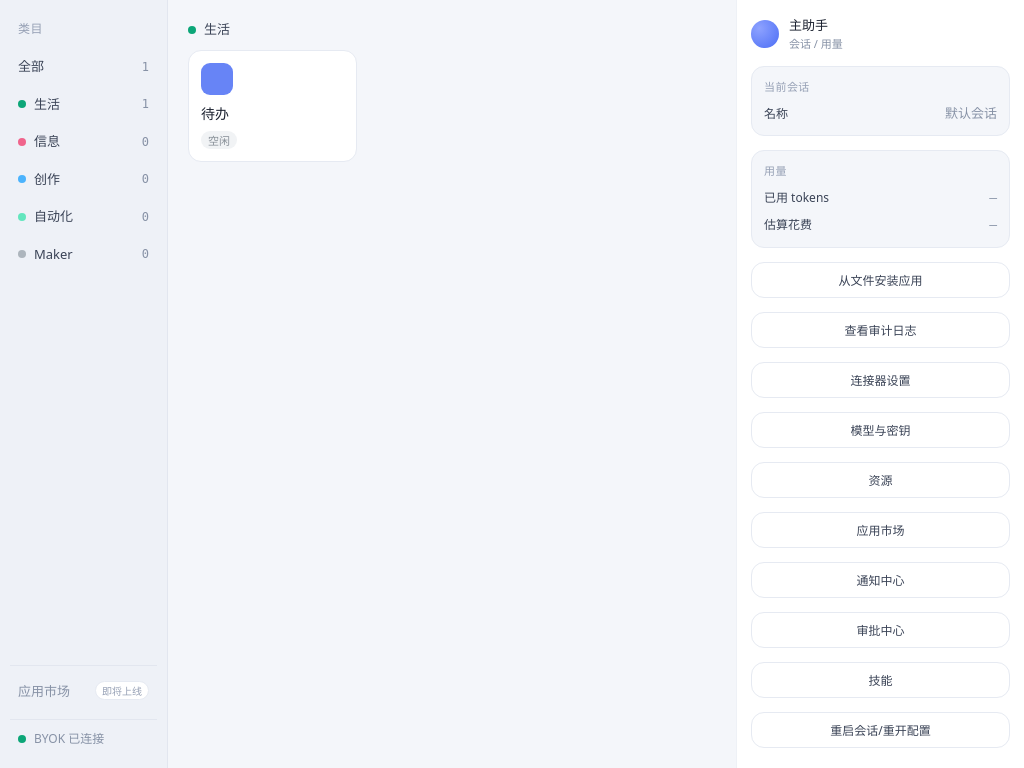
it: 点击「技能」入口切到 SkillsView
Expected: the text "待办" is shown, [201,102,229,122]
Click the button "技能" at (880, 680), box [751,662,1010,698]
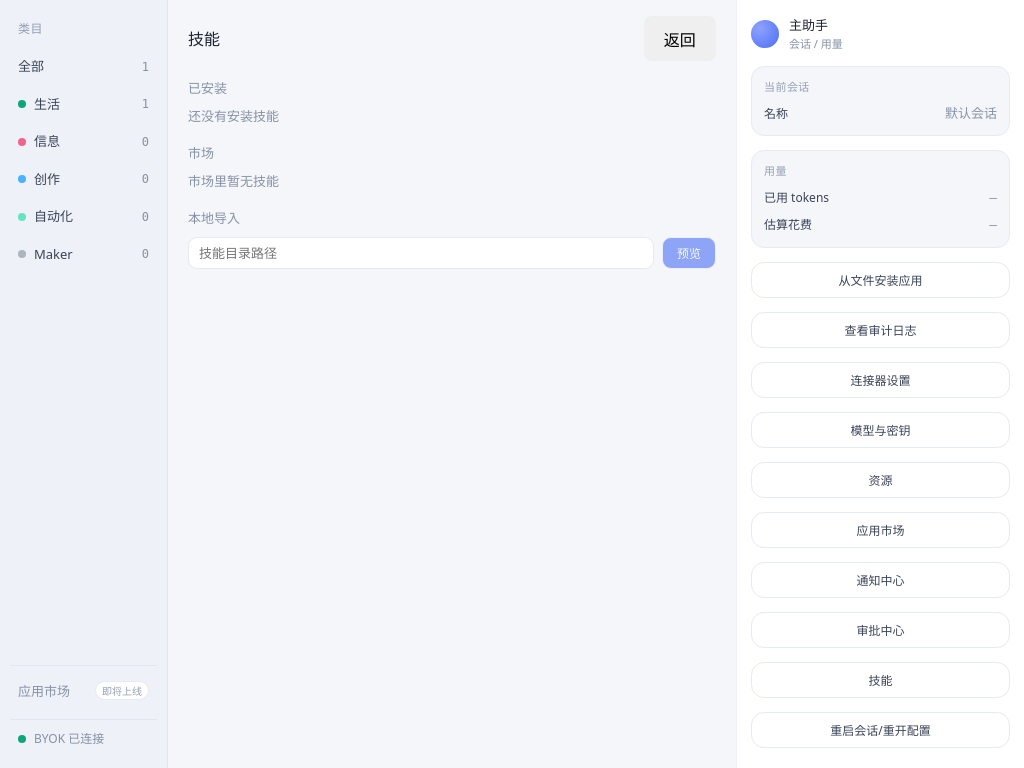
Expected: the text "还没有安装技能" is shown, [188,107,279,125]
